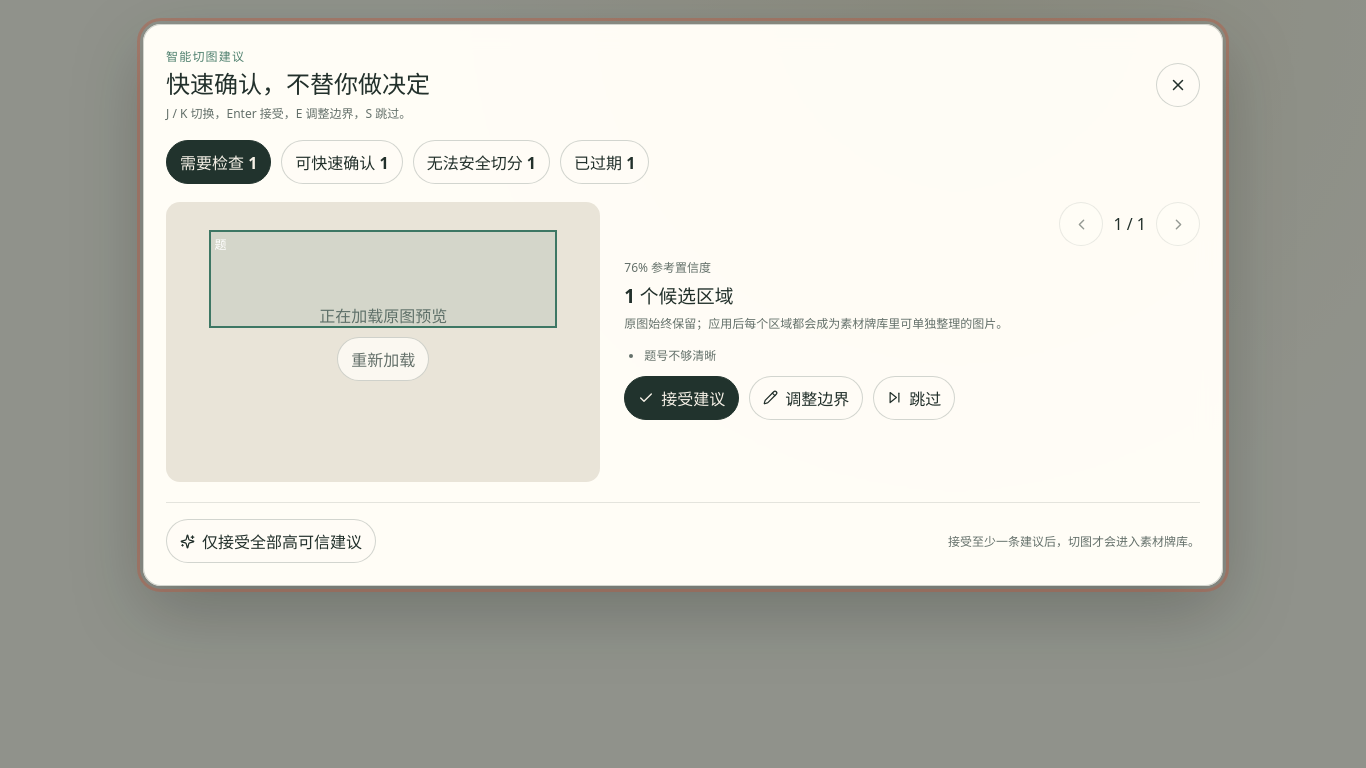
Test: CaptureRecognitionReview › keeps low and stale suggestions unacceptably safe
What coordinates should you click on to do the following:
click the button "无法安全切分 1"
I would click on:
 (481, 162)
Its box is [413,140,550,184].
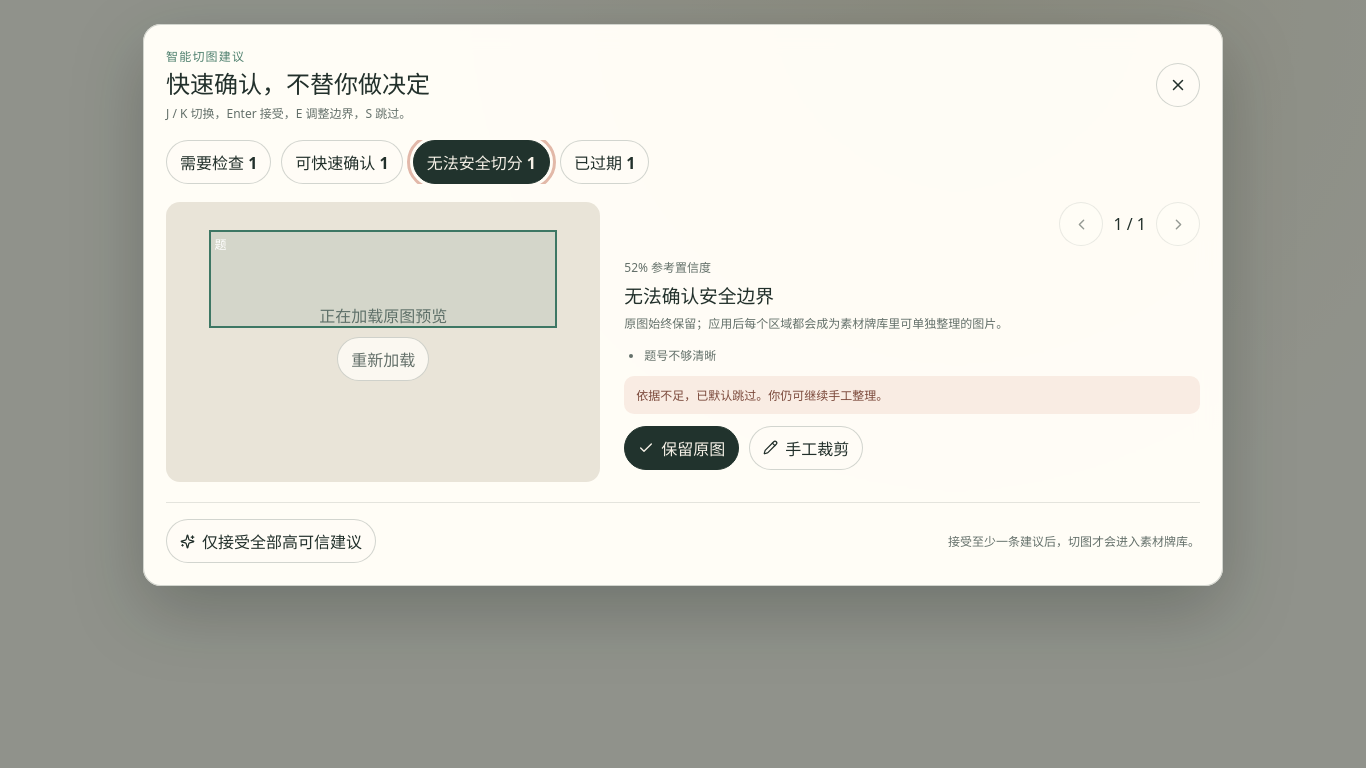
Expected: the button "接受建议" is gone
Expected: the button "保留原图" is shown, [624,426,739,470]
What coordinates should you click on to do the following:
click the button "手工裁剪"
I would click on:
 (806, 448)
Its box is [749,426,863,470].
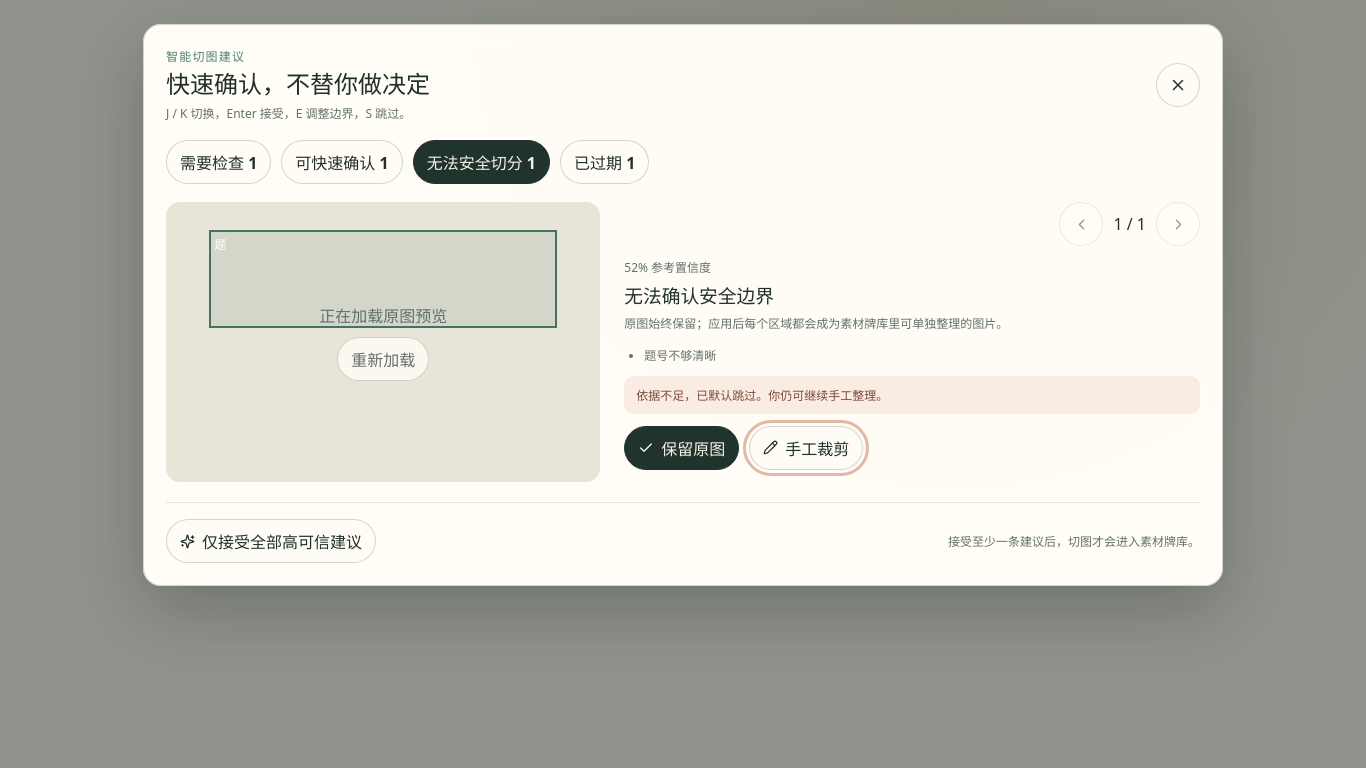
Expected: the text "依据不足，已默认跳过。你仍可继续手工整理。" is shown, [624,376,1200,414]
What coordinates should you click on to do the following:
click the button "已过期 1"
I would click on:
 (605, 162)
Its box is [560,140,649,184].
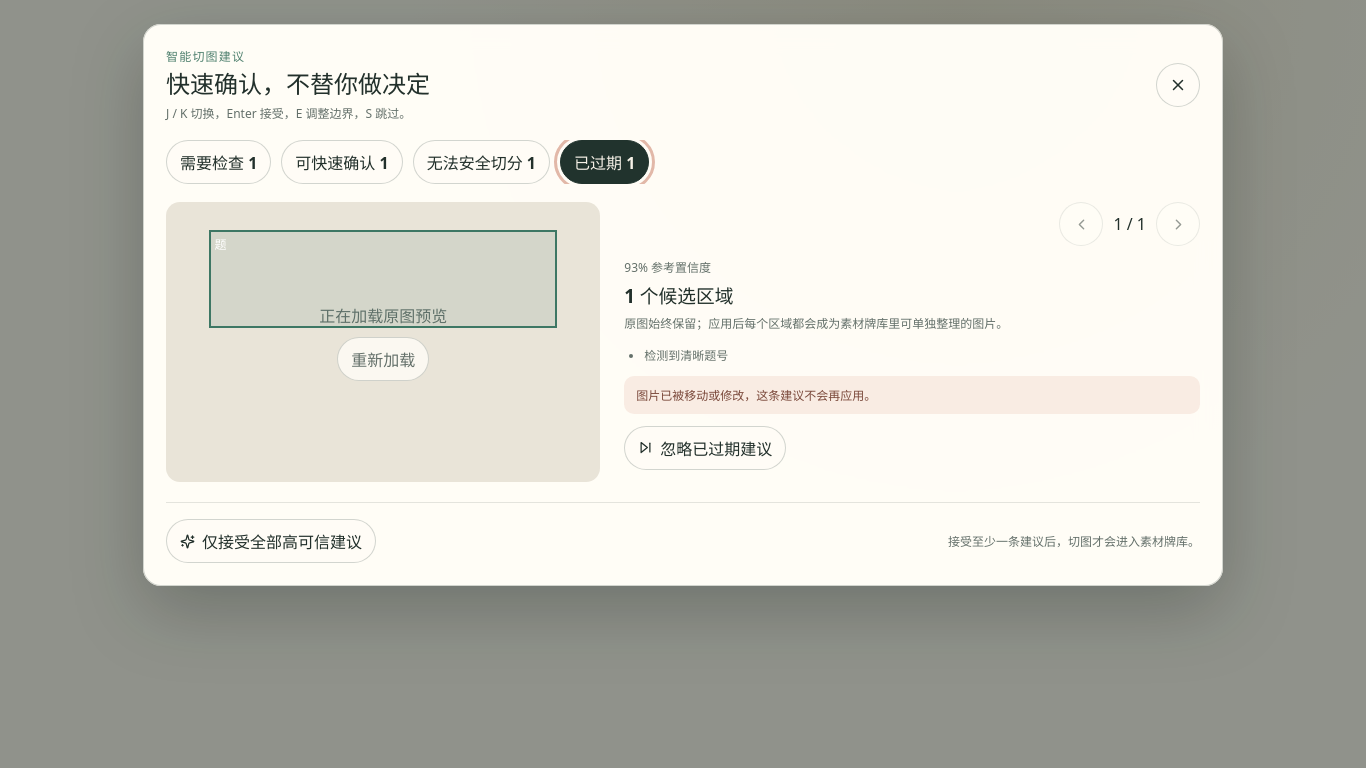
Expected: the button "接受建议" is not shown
Expected: the button "忽略已过期建议" is shown, [624,426,786,470]
Expected: the text "图片已被移动或修改，这条建议不会再应用。" is shown, [624,376,1200,414]
